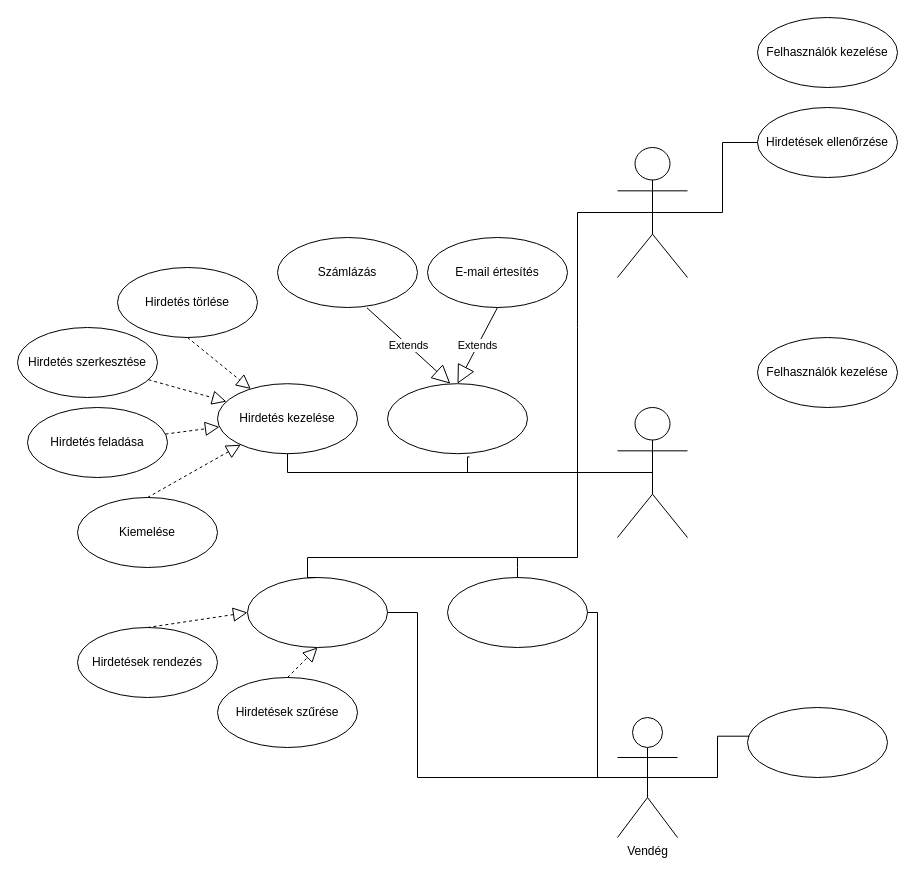
Some shapes in this 915 by 876 pixel diagram are drawn without their labels. Here are the shapes that lost their labels. From the top down, the centre of each, then its label:
the point at 652,212: Administrator
the point at 457,418: Szállás foglalás
the point at 652,472: Felhasználó
the point at 317,612: Hirdetések keresése
the point at 517,612: Hirdetések megtekintése
the point at 817,742: Regisztráció
